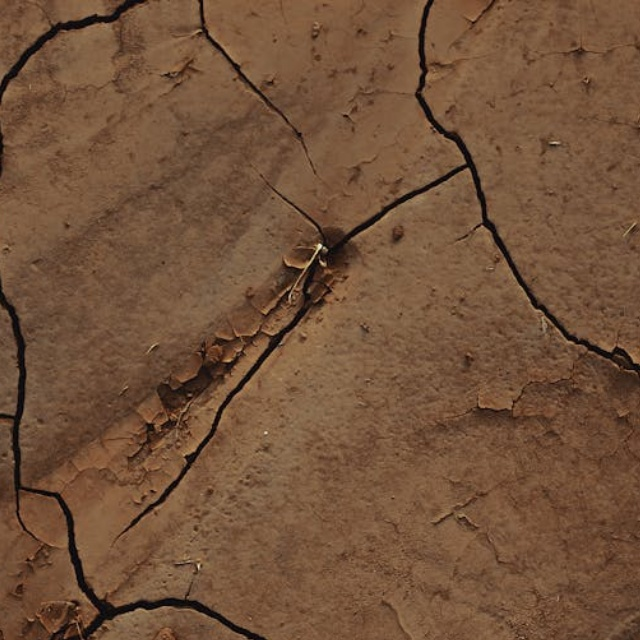细微裂纹: (349, 0, 640, 431), (25, 489, 640, 640)
